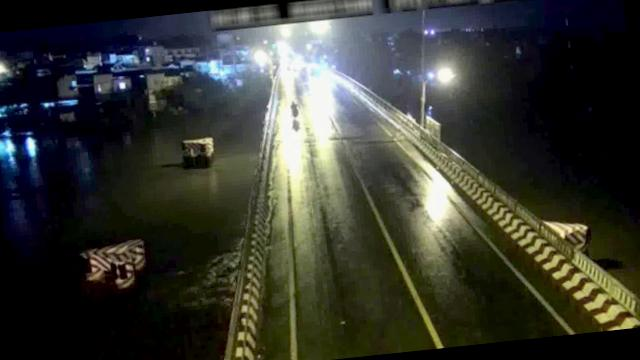Bike: (289, 98, 300, 119)
